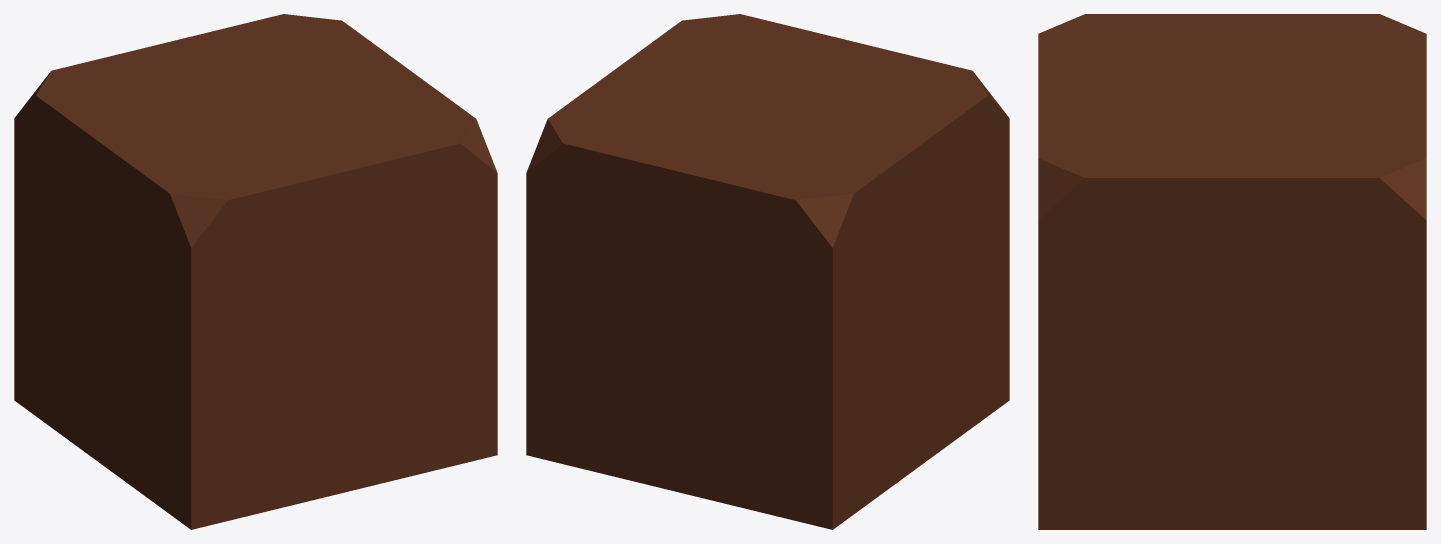
The model's file is Tile_Dirt.fbx.
3 views of the same model, side by side, from view 1: azimuth 30°, elevation 25°; view 2: azimuth 150°, elevation 25°; view 3: azimuth 270°, elevation 25° (orthographic). The views are drawn at different scales.
Parts seen in each view (by area): view 1: TIle_Dirt; view 2: TIle_Dirt; view 3: TIle_Dirt.
Boxes of the visible parts, left/top/right/bottom form: TIle_Dirt: left=14, top=14, right=497, bottom=529; TIle_Dirt: left=526, top=14, right=1009, bottom=529; TIle_Dirt: left=1038, top=14, right=1426, bottom=529.
Bounding box in the file's own units: 5 × 5 × 5.
